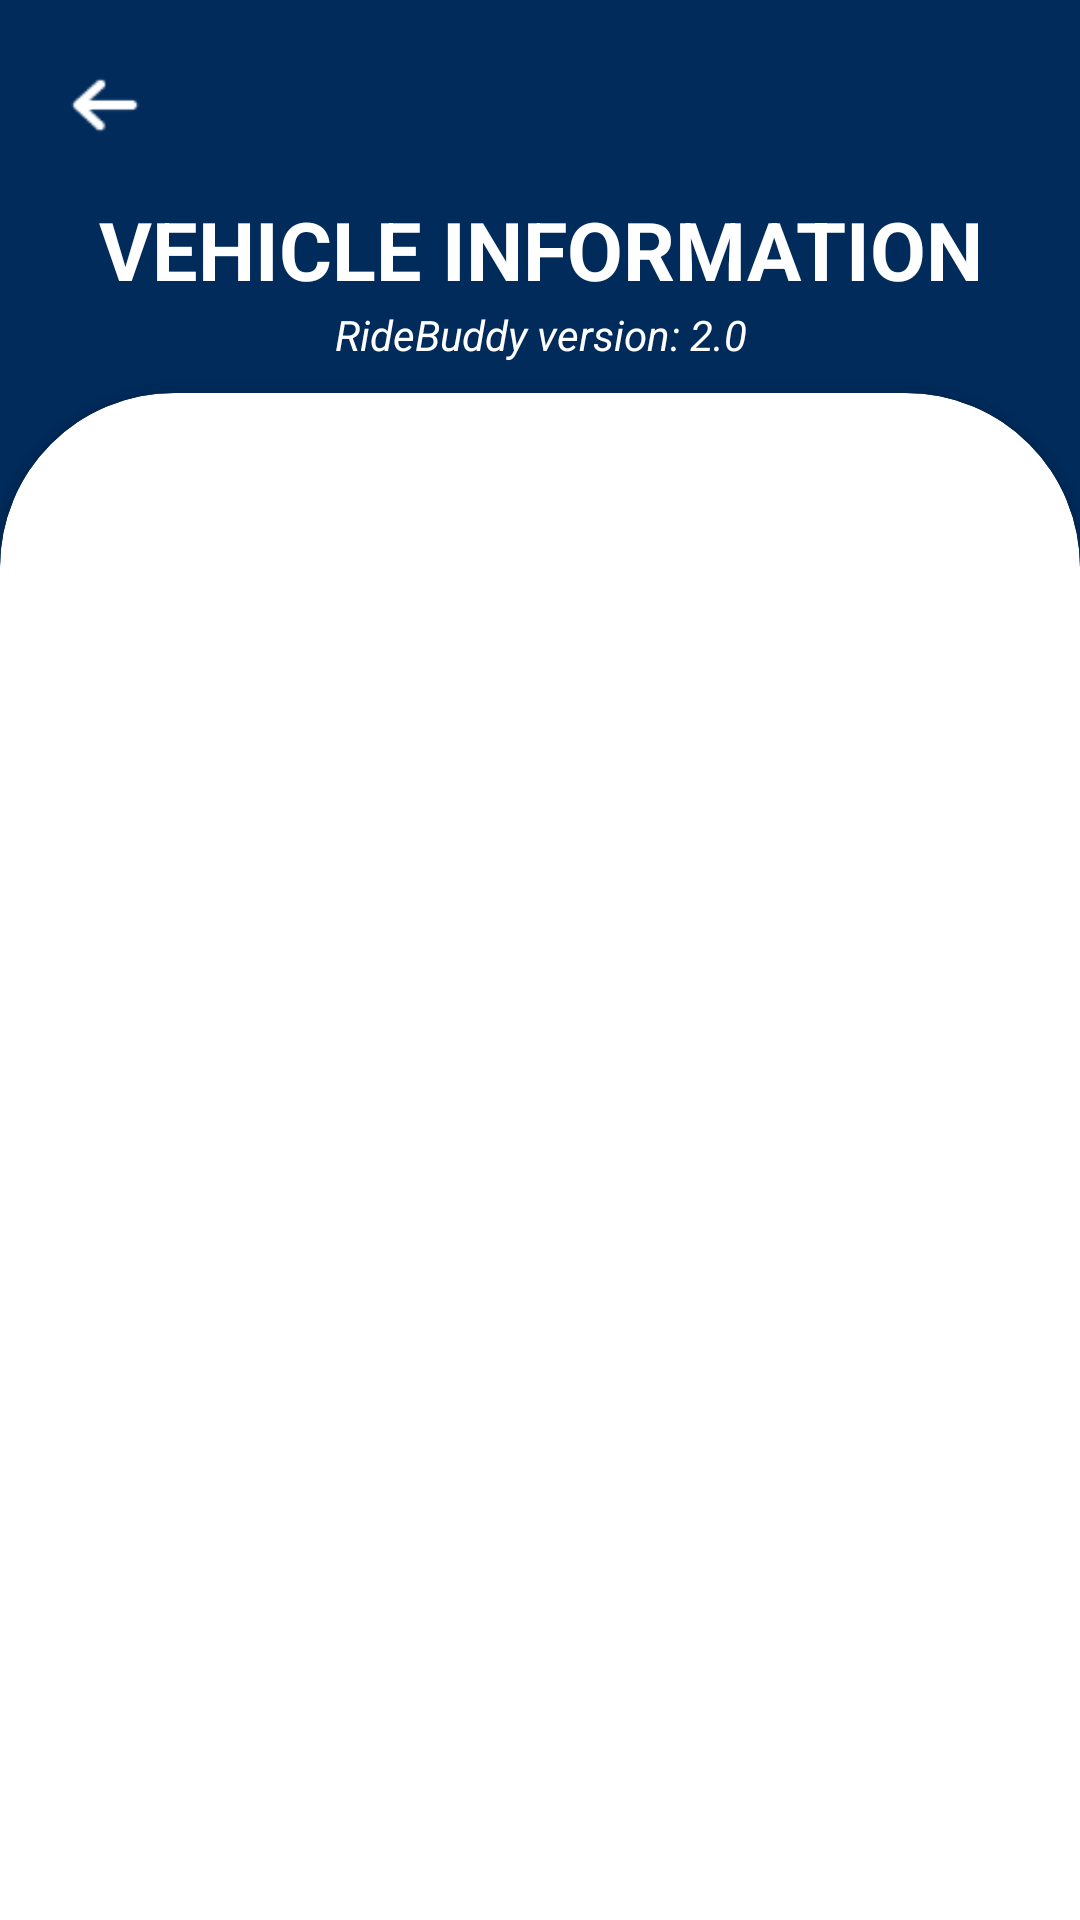

Named icons in this screenshot (1080x1920) and their centers, (x=x, y=y):
back: (x=105, y=105)
